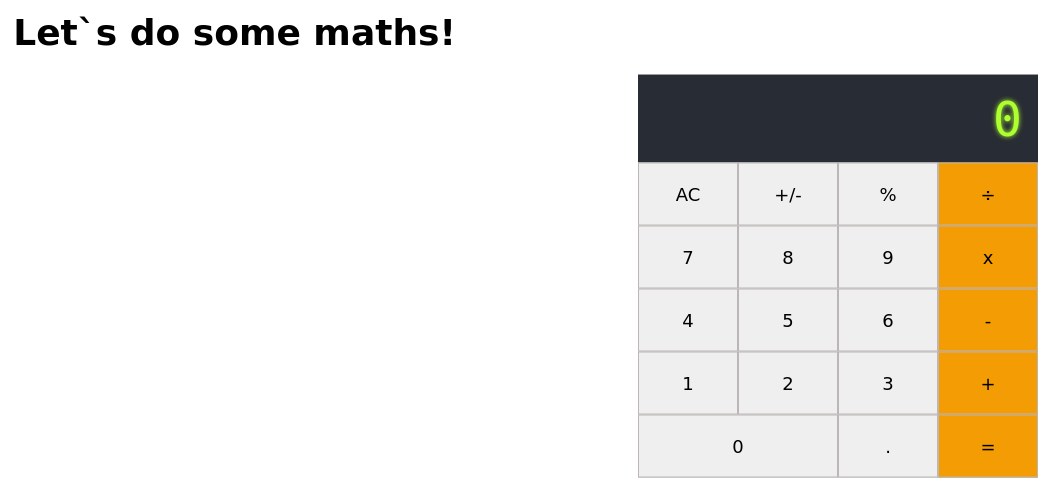
Calculator interaction tests › test math error interaction: 1 % 0 prints `Can't divide by zero
Click the button "1".
click(688, 383)  # box [638,352,738,414]
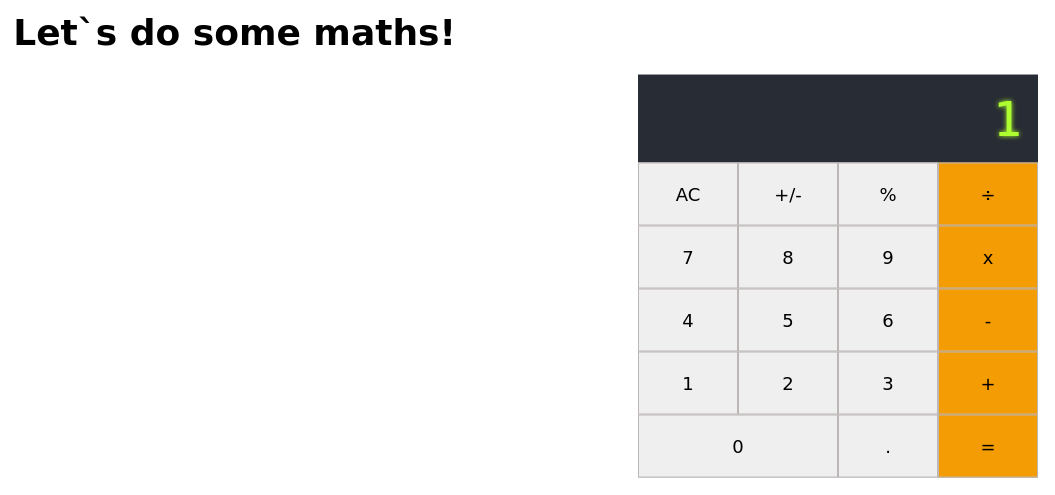
Click the button "%".
click(888, 194)  # box [838,162,938,226]
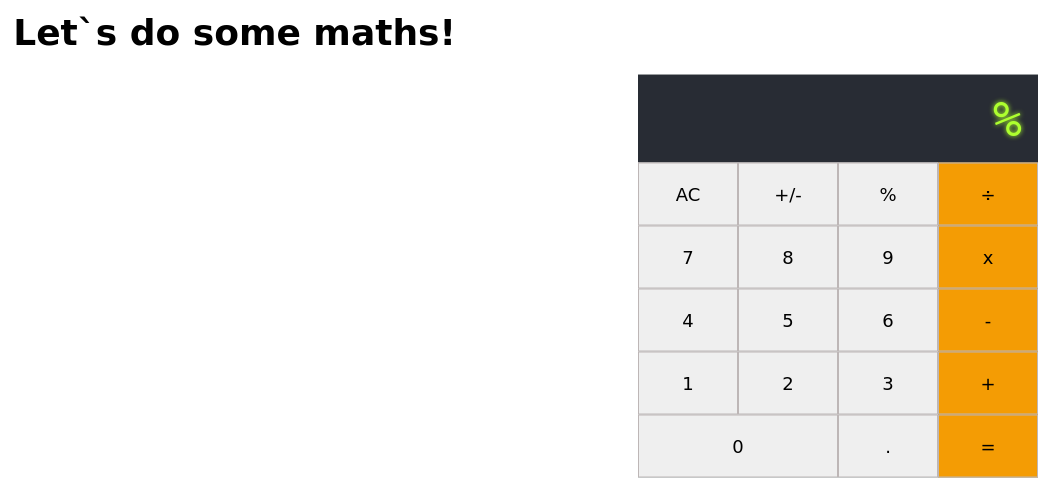
Click the button "0".
click(738, 446)  # box [638,414,838,478]
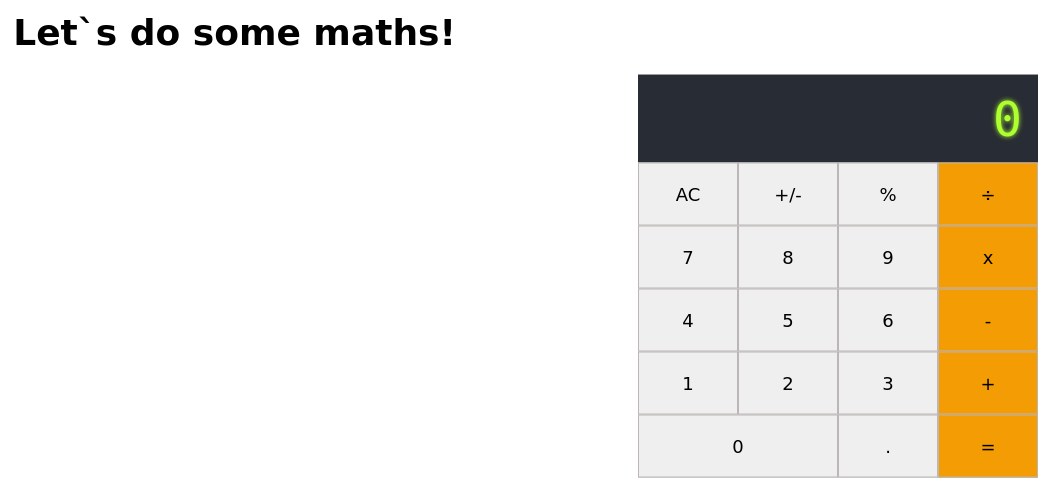
Click the button "=".
click(988, 446)  # box [938,414,1038,478]
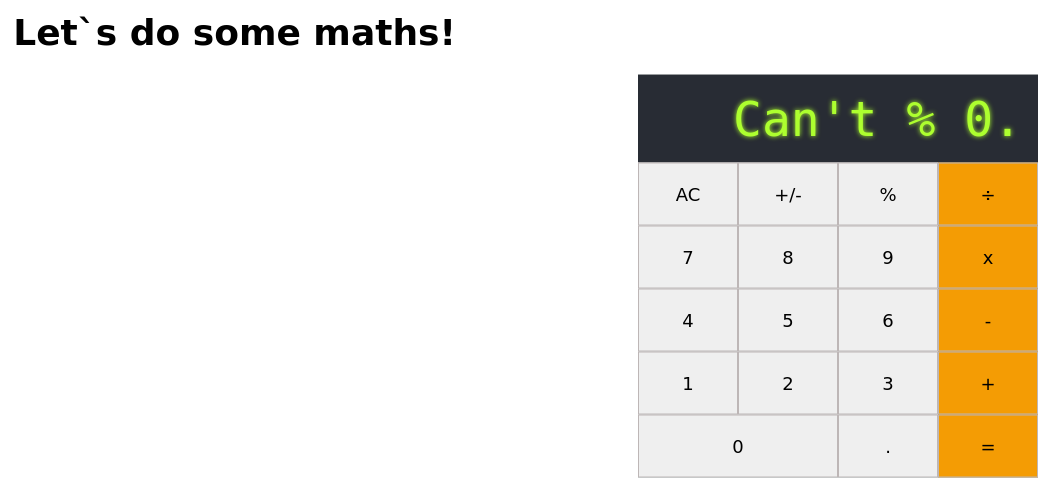
Result: the text with class "display" reads "Can't % 0." at [733,90,1022,146]
